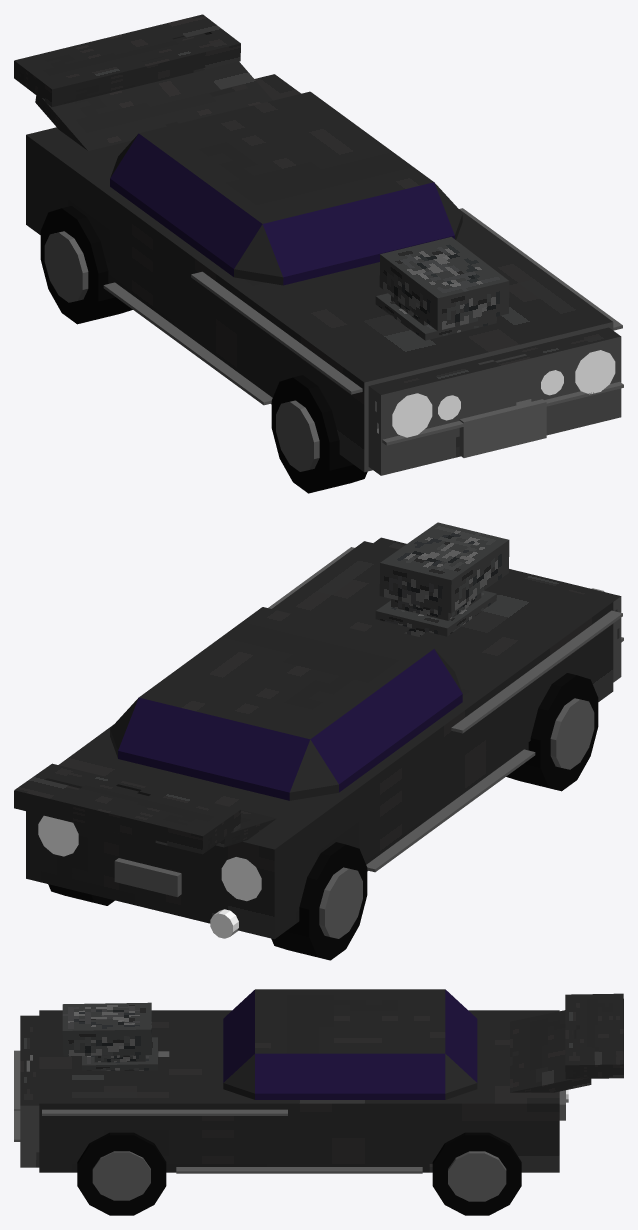
Rendered from charger.gltf.
3 views of the same model, one above another, from view 1: azimuth 30°, elevation 25°; view 2: azimuth 150°, elevation 25°; view 3: azimuth 270°, elevation 25° (orthographic). The views are drawn at different scales.
Visible parts, largest first — view 1: Chassi, beveled_cuboid, cylinder (×4), Placa_frente, circle (×2); view 2: Chassi, beveled_cuboid, cylinder (×5), circle (×2), Placa_frente; view 3: Chassi, beveled_cuboid, cylinder (×4).
Boxes of the visible parts, x1,y1,x2,y2 form: Chassi: [14, 14, 623, 475]; beveled_cuboid: [110, 91, 462, 285]; cylinder (×4): [40, 206, 367, 493]; Placa_frente: [456, 399, 546, 457]; circle (×2): [392, 350, 615, 437]; Chassi: [14, 522, 623, 939]; beveled_cuboid: [110, 607, 462, 800]; cylinder (×5): [210, 673, 598, 960]; circle (×2): [38, 815, 261, 901]; Placa_frente: [114, 858, 181, 897]; Chassi: [14, 993, 623, 1173]; beveled_cuboid: [223, 989, 477, 1099]; cylinder (×4): [77, 1132, 521, 1215].
Bounding box in the file's own units: 0.6063 × 0.4081 × 1.5.
Materials: 10 (7 with a texture image).
